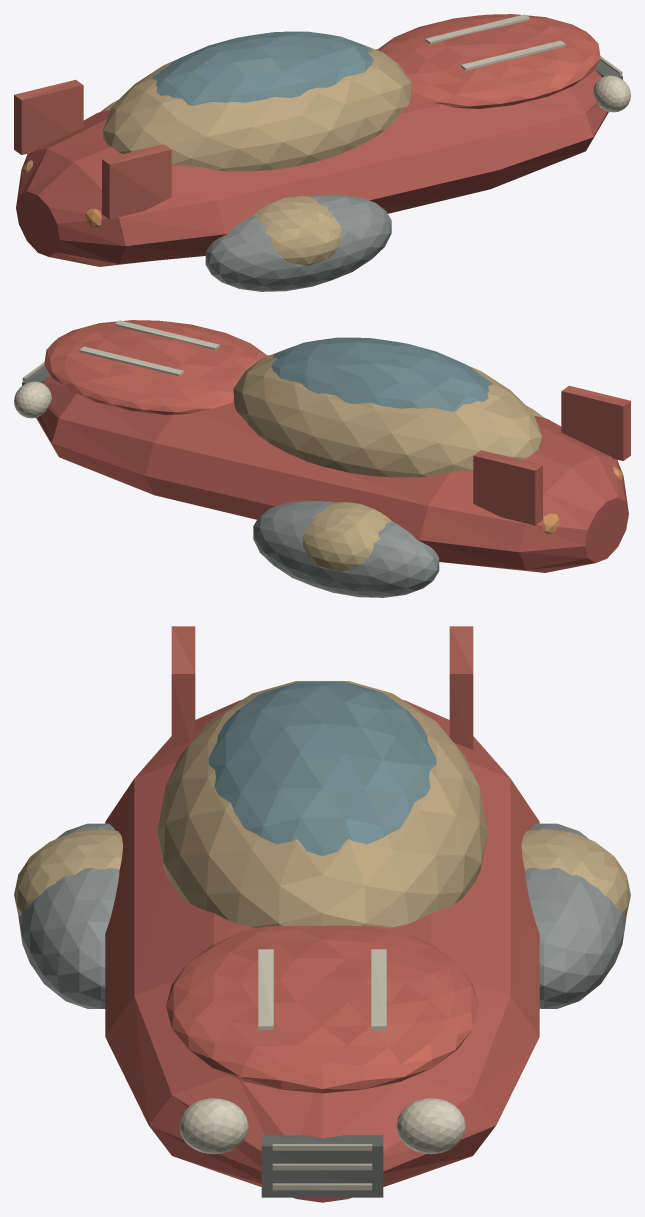
File: hovercar_red_off.glb
3 views of the same model, one above another, from view 1: azimuth 30°, elevation 25°; view 2: azimuth 150°, elevation 25°; view 3: azimuth 270°, elevation 25° (orthographic). The views are drawn at different scales.
Parts seen in each view (by area): view 1: car_body, cockpit_frame, front_hood, cockpit_glass, thruster_shell_-0.51, thruster_band_-0.51, tail_fin_-0.32, tail_fin_0.32, headlamp_-0.25, hood_stripe_-0.13, hood_stripe_0.13; view 2: car_body, cockpit_frame, front_hood, cockpit_glass, thruster_shell_0.51, thruster_band_0.51, tail_fin_0.32, tail_fin_-0.32, headlamp_0.25, hood_stripe_0.13, hood_stripe_-0.13; view 3: car_body, front_hood, cockpit_frame, cockpit_glass, thruster_shell_0.51, thruster_shell_-0.51, front_grille, thruster_band_0.51, thruster_band_-0.51, headlamp_-0.25, headlamp_0.25, tail_fin_0.32 (+5 smaller).
Boxes of the visible parts, <box> form: car_body: <box>16,49,608,266</box>; cockpit_frame: <box>103,40,411,171</box>; front_hood: <box>377,14,600,108</box>; cockpit_glass: <box>152,31,373,105</box>; thruster_shell_-0.51: <box>205,195,391,291</box>; thruster_band_-0.51: <box>252,196,342,265</box>; tail_fin_-0.32: <box>102,144,171,219</box>; tail_fin_0.32: <box>14,79,83,154</box>; headlamp_-0.25: <box>593,75,630,112</box>; hood_stripe_-0.13: <box>461,40,565,70</box>; hood_stripe_0.13: <box>425,14,529,44</box>; car_body: <box>36,355,628,572</box>; cockpit_frame: <box>233,346,541,477</box>; front_hood: <box>44,320,267,414</box>; cockpit_glass: <box>271,337,492,411</box>; thruster_shell_0.51: <box>253,501,439,597</box>; thruster_band_0.51: <box>302,502,392,571</box>; tail_fin_0.32: <box>473,450,542,525</box>; tail_fin_-0.32: <box>561,385,630,460</box>; headlamp_0.25: <box>14,381,51,418</box>; hood_stripe_0.13: <box>79,346,183,376</box>; hood_stripe_-0.13: <box>115,320,219,350</box>; car_body: <box>105,700,539,1202</box>; front_hood: <box>166,925,478,1093</box>; cockpit_frame: <box>157,681,487,928</box>; cockpit_glass: <box>208,681,436,855</box>; thruster_shell_0.51: <box>525,823,626,1008</box>; thruster_shell_-0.51: <box>18,823,119,1008</box>; front_grille: <box>261,1135,383,1197</box>; thruster_band_0.51: <box>521,829,630,916</box>; thruster_band_-0.51: <box>14,829,122,916</box>; headlamp_-0.25: <box>179,1098,248,1154</box>; headlamp_0.25: <box>396,1098,465,1154</box>; tail_fin_0.32: <box>449,626,473,749</box>.
Size of the model in its own units: 2.39 by 0.71 by 1.42.
